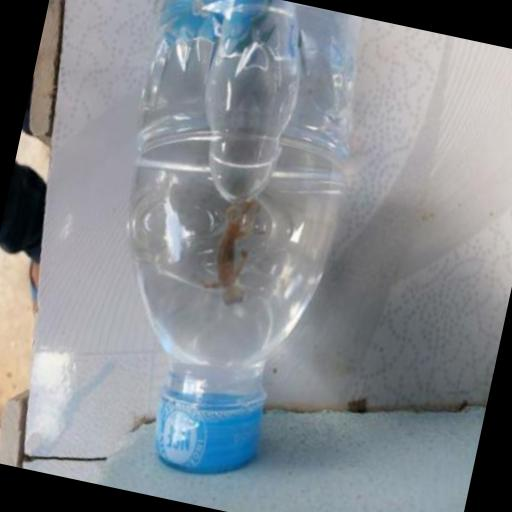Coca: (50, 0, 389, 501)
